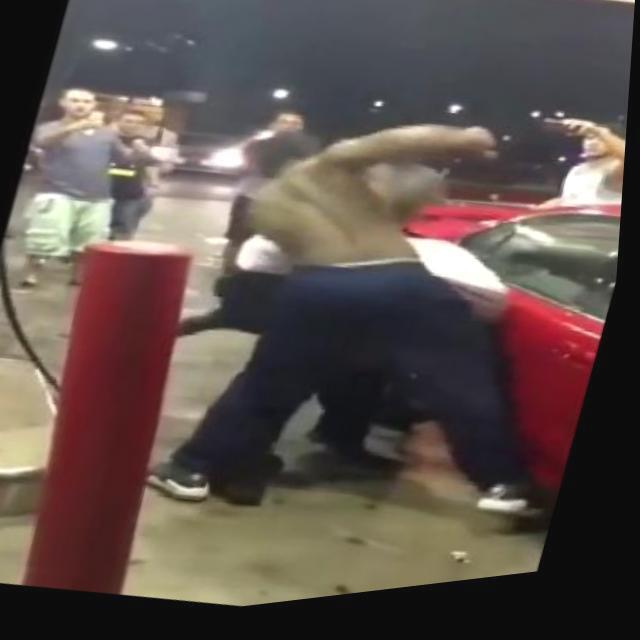fight: (144, 83, 572, 566)
